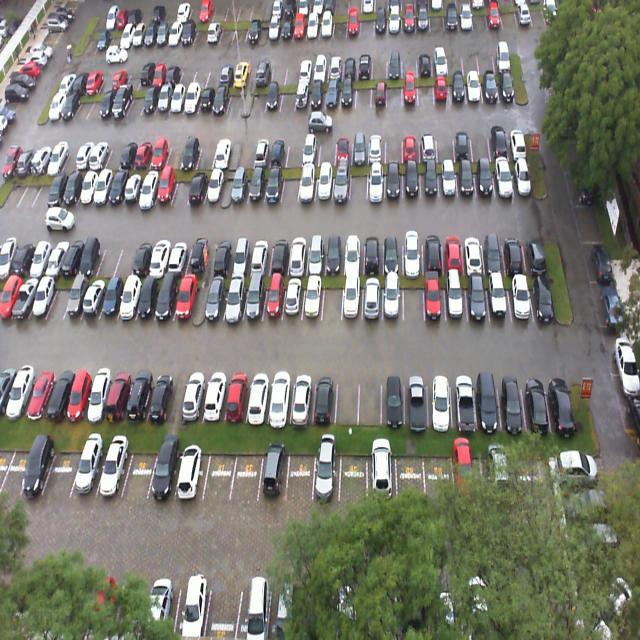space-empty: (123, 442, 158, 502), (43, 445, 78, 499), (231, 451, 264, 504), (204, 448, 238, 498), (288, 449, 314, 504), (359, 371, 382, 426), (335, 373, 359, 423), (113, 238, 140, 276), (322, 277, 343, 322), (404, 274, 424, 320), (172, 165, 193, 208), (283, 164, 300, 205), (351, 164, 367, 198)
space-occupied: (94, 445, 132, 502), (71, 446, 106, 501), (148, 444, 182, 500), (545, 370, 576, 426), (499, 373, 528, 432), (175, 445, 208, 496), (312, 451, 342, 507), (223, 370, 254, 424), (21, 446, 55, 494), (259, 448, 290, 500), (523, 371, 550, 428), (64, 367, 93, 420), (476, 372, 502, 429), (117, 271, 146, 322), (222, 272, 249, 326), (83, 371, 112, 421), (106, 371, 134, 422), (452, 374, 479, 426), (136, 267, 162, 320), (428, 375, 454, 428), (127, 370, 154, 420), (312, 372, 336, 428), (268, 373, 294, 424), (154, 274, 180, 324), (203, 370, 229, 420), (246, 372, 272, 422), (262, 270, 286, 324), (530, 270, 557, 318), (148, 374, 175, 422), (174, 272, 198, 324), (382, 371, 405, 424), (101, 270, 125, 320), (241, 275, 265, 325), (290, 372, 313, 424), (405, 374, 428, 426), (486, 273, 511, 320), (483, 227, 507, 275), (181, 373, 206, 418), (443, 226, 466, 273), (205, 273, 225, 327), (130, 236, 156, 276), (509, 276, 532, 320), (303, 276, 324, 324), (155, 165, 178, 208), (525, 229, 548, 272), (444, 277, 467, 320), (467, 275, 488, 322), (148, 237, 172, 278), (188, 164, 211, 206), (363, 276, 384, 322), (282, 276, 302, 324), (167, 238, 192, 276), (505, 227, 526, 272), (425, 229, 445, 276), (188, 239, 212, 278), (139, 165, 162, 205), (511, 156, 534, 196), (287, 234, 310, 274), (404, 226, 424, 272), (426, 276, 446, 322), (382, 231, 404, 272), (229, 238, 252, 277), (204, 166, 226, 206), (464, 228, 484, 272), (231, 164, 252, 205), (213, 239, 236, 276), (384, 276, 402, 322), (307, 234, 328, 273), (345, 231, 364, 274), (268, 236, 290, 272), (251, 235, 272, 272), (345, 275, 362, 320), (324, 235, 344, 273), (364, 235, 383, 273), (458, 162, 478, 198), (478, 158, 496, 198), (299, 166, 317, 205), (494, 160, 514, 195), (267, 166, 284, 207), (250, 166, 268, 204), (368, 162, 386, 200), (422, 163, 440, 198), (333, 165, 350, 202), (388, 162, 404, 200), (403, 163, 420, 198), (440, 162, 458, 195), (316, 166, 332, 200)
